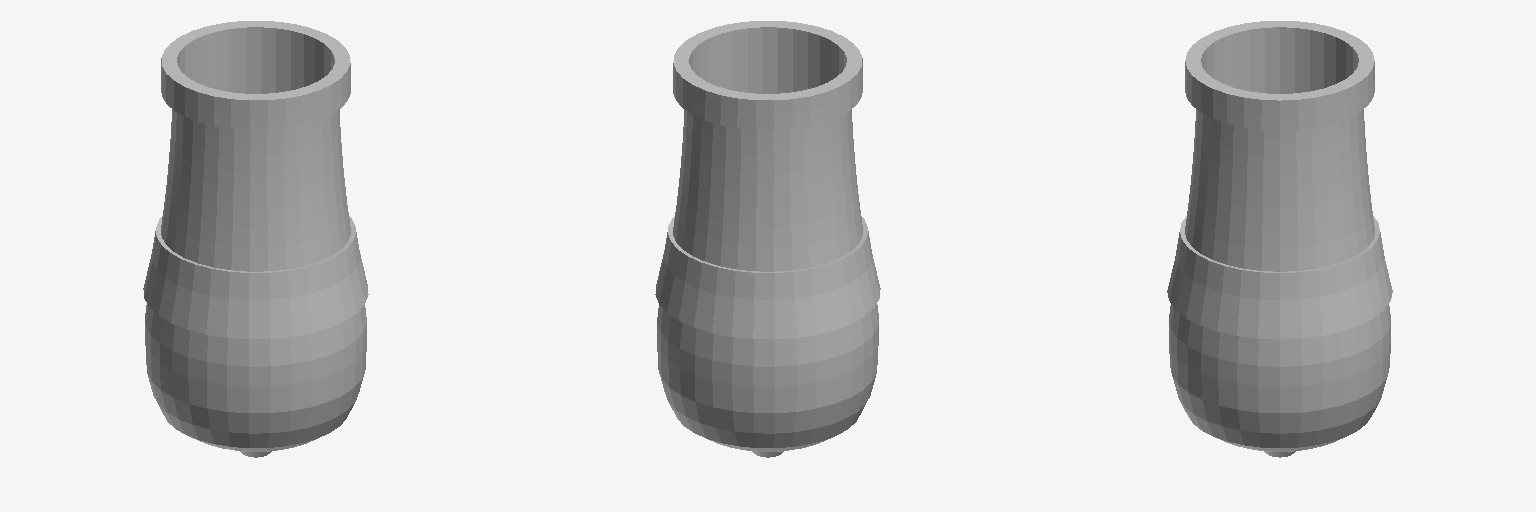
File: cannon_15.obj
The picture shows the model from 3 angles: view 1: azimuth 30°, elevation 25°; view 2: azimuth 150°, elevation 25°; view 3: azimuth 270°, elevation 25°; orthographic projection.
Parts seen in each view (by area): view 1: 炮管.003_柱体.009; view 2: 炮管.003_柱体.009; view 3: 炮管.003_柱体.009.
Part boxes in pixels (x1,y1,x2,y2): 炮管.003_柱体.009: (143,21,368,457); 炮管.003_柱体.009: (655,21,880,457); 炮管.003_柱体.009: (1167,21,1392,457).
Size of the model in its own units: 0.8576 by 1.64 by 0.8576.